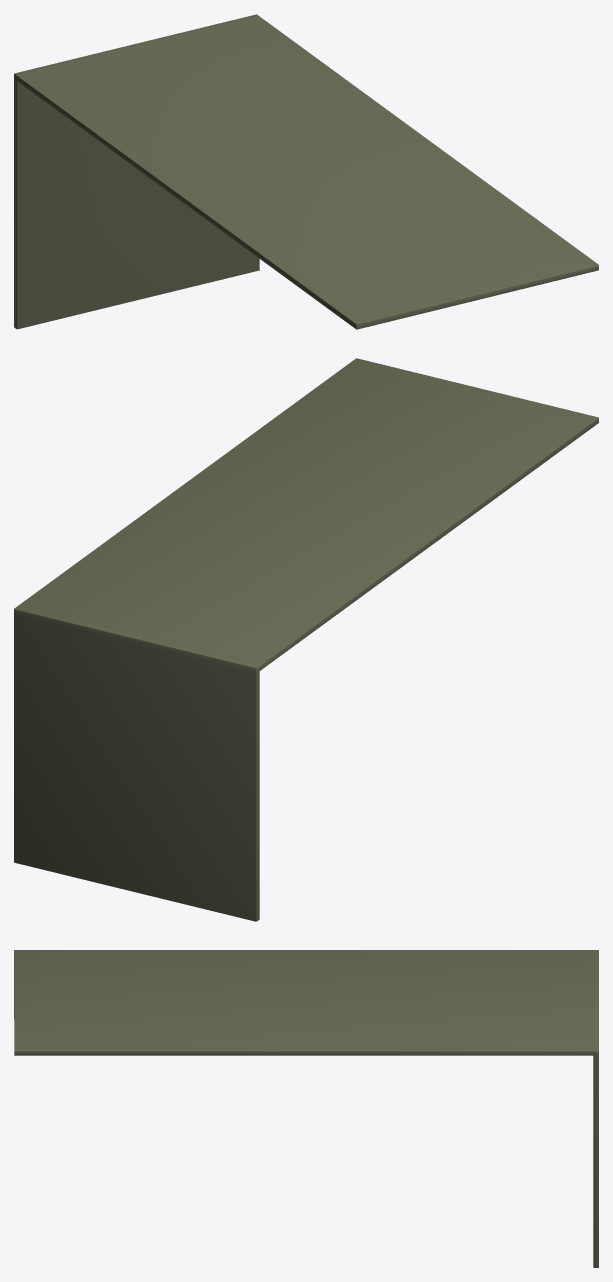
Rendered from furniture_1.glb.
3 renders of one model, top to bottom at view 1: azimuth 30°, elevation 25°; view 2: azimuth 150°, elevation 25°; view 3: azimuth 270°, elevation 25°, orthographic. The views are drawn at different scales.
Visible parts, largest first — view 1: GF_Fix_Island_Waterfall; view 2: GF_Fix_Island_Waterfall; view 3: GF_Fix_Island_Waterfall.
Boxes of the visible parts, box(x1,y1,x2,y2) form: GF_Fix_Island_Waterfall: box(14, 14, 598, 329); GF_Fix_Island_Waterfall: box(14, 358, 598, 921); GF_Fix_Island_Waterfall: box(14, 950, 598, 1267).
Size of the model in its own units: 0.8994 by 0.9004 by 2.2.
